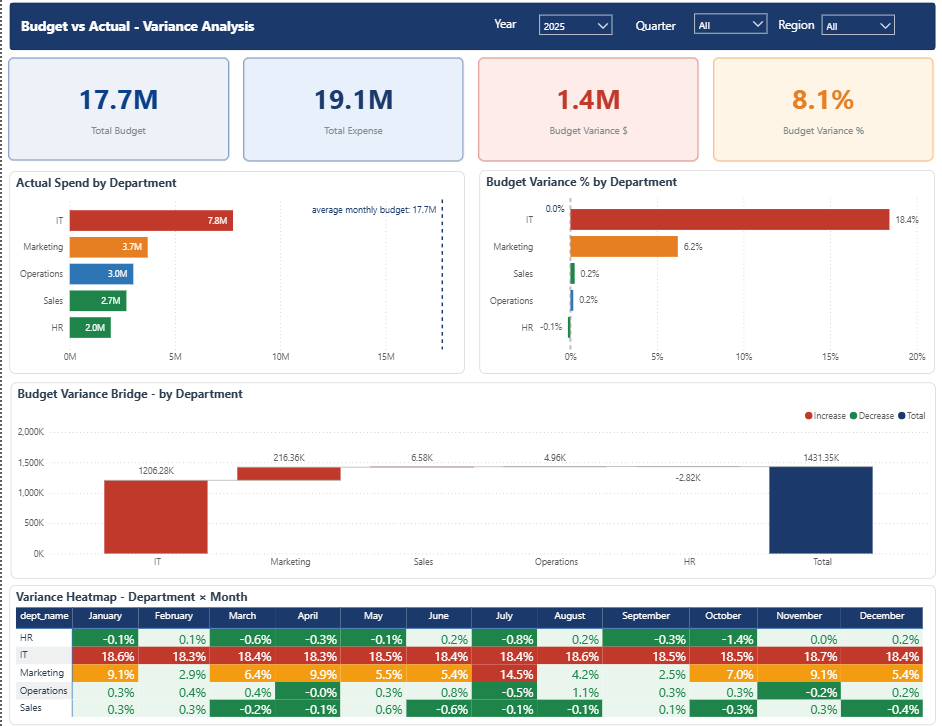

What the dashboard file says about the page in this screenshot:
{"tool":"powerbi","page":{"name":"Budget vs Actual","canvas":[1280,1000],"ordinal":2},"visuals":[{"type":"shape","box":[9.8,11,1258.3,64.8],"z":0},{"type":"textbox","box":[20.4,23.8,441.6,40.8],"z":1000},{"type":"slicer","fields":{"Values":["production dim_date.year"]},"box":[725.2,22.1,108.7,44.2],"z":2000},{"type":"textbox","box":[664.1,22.1,61.1,34],"z":3000},{"type":"slicer","fields":{"Values":["production dim_region.region_name"]},"box":[1109.1,22,108.8,44],"z":4000},{"type":"textbox","box":[1049.2,24.5,62.4,33],"z":5000},{"type":"advanceCardE03760C5AB684758B56AA29F9E6C257B","fields":{"mainMeasure":["_Measures.Total Budget"]},"box":[8.4,84.3,300,140],"z":6000},{"type":"advanceCardE03760C5AB684758B56AA29F9E6C257B","title":"Total Actual Spend","fields":{"mainMeasure":["_Measures.Total Expense"]},"box":[328.2,84.3,299.6,140.6],"z":7000},{"type":"advanceCardE03760C5AB684758B56AA29F9E6C257B","fields":{"mainMeasure":["_Measures.Budget Variance $"]},"box":[647.6,84.3,299.6,140.6],"z":8000},{"type":"advanceCardE03760C5AB684758B56AA29F9E6C257B","fields":{"mainMeasure":["_Measures.Budget Variance %"]},"box":[967.1,84.3,299.6,140.6],"z":9000},{"type":"clusteredBarChart","title":"Actual Spend by Department","fields":{"Category":["production dim_department.dept_name"],"Y":["_Measures.Total Expense"]},"box":[10.2,239.5,618.2,275.1],"z":10000},{"type":"slicer","fields":{"Values":["production dim_date.quarter_name"]},"box":[936.6,19.9,108.8,44],"z":11000},{"type":"textbox","box":[856,25.5,79.8,32.3],"z":12000},{"type":"clusteredBarChart","title":"Budget Variance % by Department","fields":{"Category":["production dim_department.dept_name"],"Y":["_Measures.Budget Variance %"]},"box":[648.8,237.8,618.2,276.8],"z":13000},{"type":"pivotTable","title":"Variance Heatmap - Department × Month","fields":{"Rows":["production dim_department.dept_name"],"Columns":["production dim_date.month_name"],"Values":["_Measures.Budget Variance %"]},"box":[10.2,801.6,1258.5,190.2],"z":14000},{"type":"waterfallChart","title":"Budget Variance Bridge - by Department","fields":{"Category":["production dim_department.dept_name"],"Y":["_Measures.Budget Variance $"]},"box":[11.9,526.5,1256.8,266.6],"z":14001}]}

Visuals, with their boxes in screenshot pixels (x1, y1, x2, y2), scaled from the page's 1280x1000 canvas onto the 942x726 screenshot:
shape: 7/8/933/55
textbox: 15/17/340/47
slicer - production dim_date.year: 534/16/614/48
textbox: 489/16/534/41
slicer - production dim_region.region_name: 816/16/896/48
textbox: 772/18/818/42
advanceCardE03760C5AB684758B56AA29F9E6C257B - _Measures.Total Budget: 6/61/227/163
"Total Actual Spend" advanceCardE03760C5AB684758B56AA29F9E6C257B: 242/61/462/163
advanceCardE03760C5AB684758B56AA29F9E6C257B - _Measures.Budget Variance $: 477/61/697/163
advanceCardE03760C5AB684758B56AA29F9E6C257B - _Measures.Budget Variance %: 712/61/932/163
"Actual Spend by Department" clusteredBarChart: 8/174/462/374
slicer - production dim_date.quarter_name: 689/14/769/46
textbox: 630/19/689/42
"Budget Variance % by Department" clusteredBarChart: 477/173/932/374
"Variance Heatmap - Department × Month" pivotTable: 8/582/934/720
"Budget Variance Bridge - by Department" waterfallChart: 9/382/934/576
